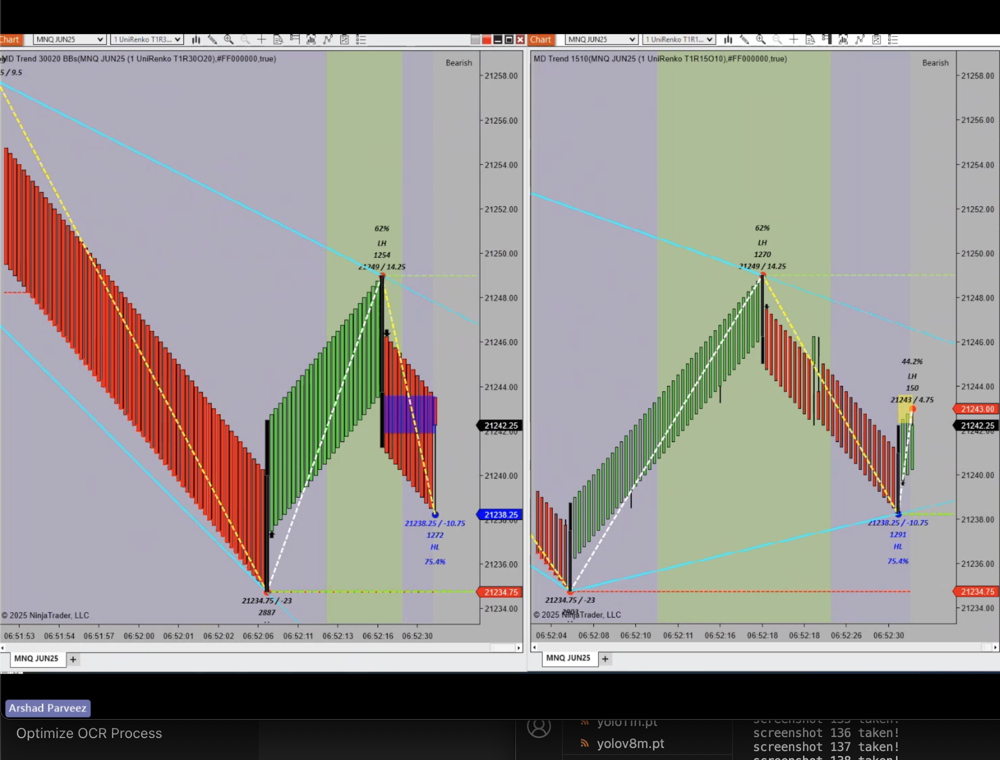HL: (888, 537, 913, 557), (424, 540, 449, 556)
LH: (903, 367, 926, 387), (370, 233, 394, 250), (754, 233, 775, 252)
